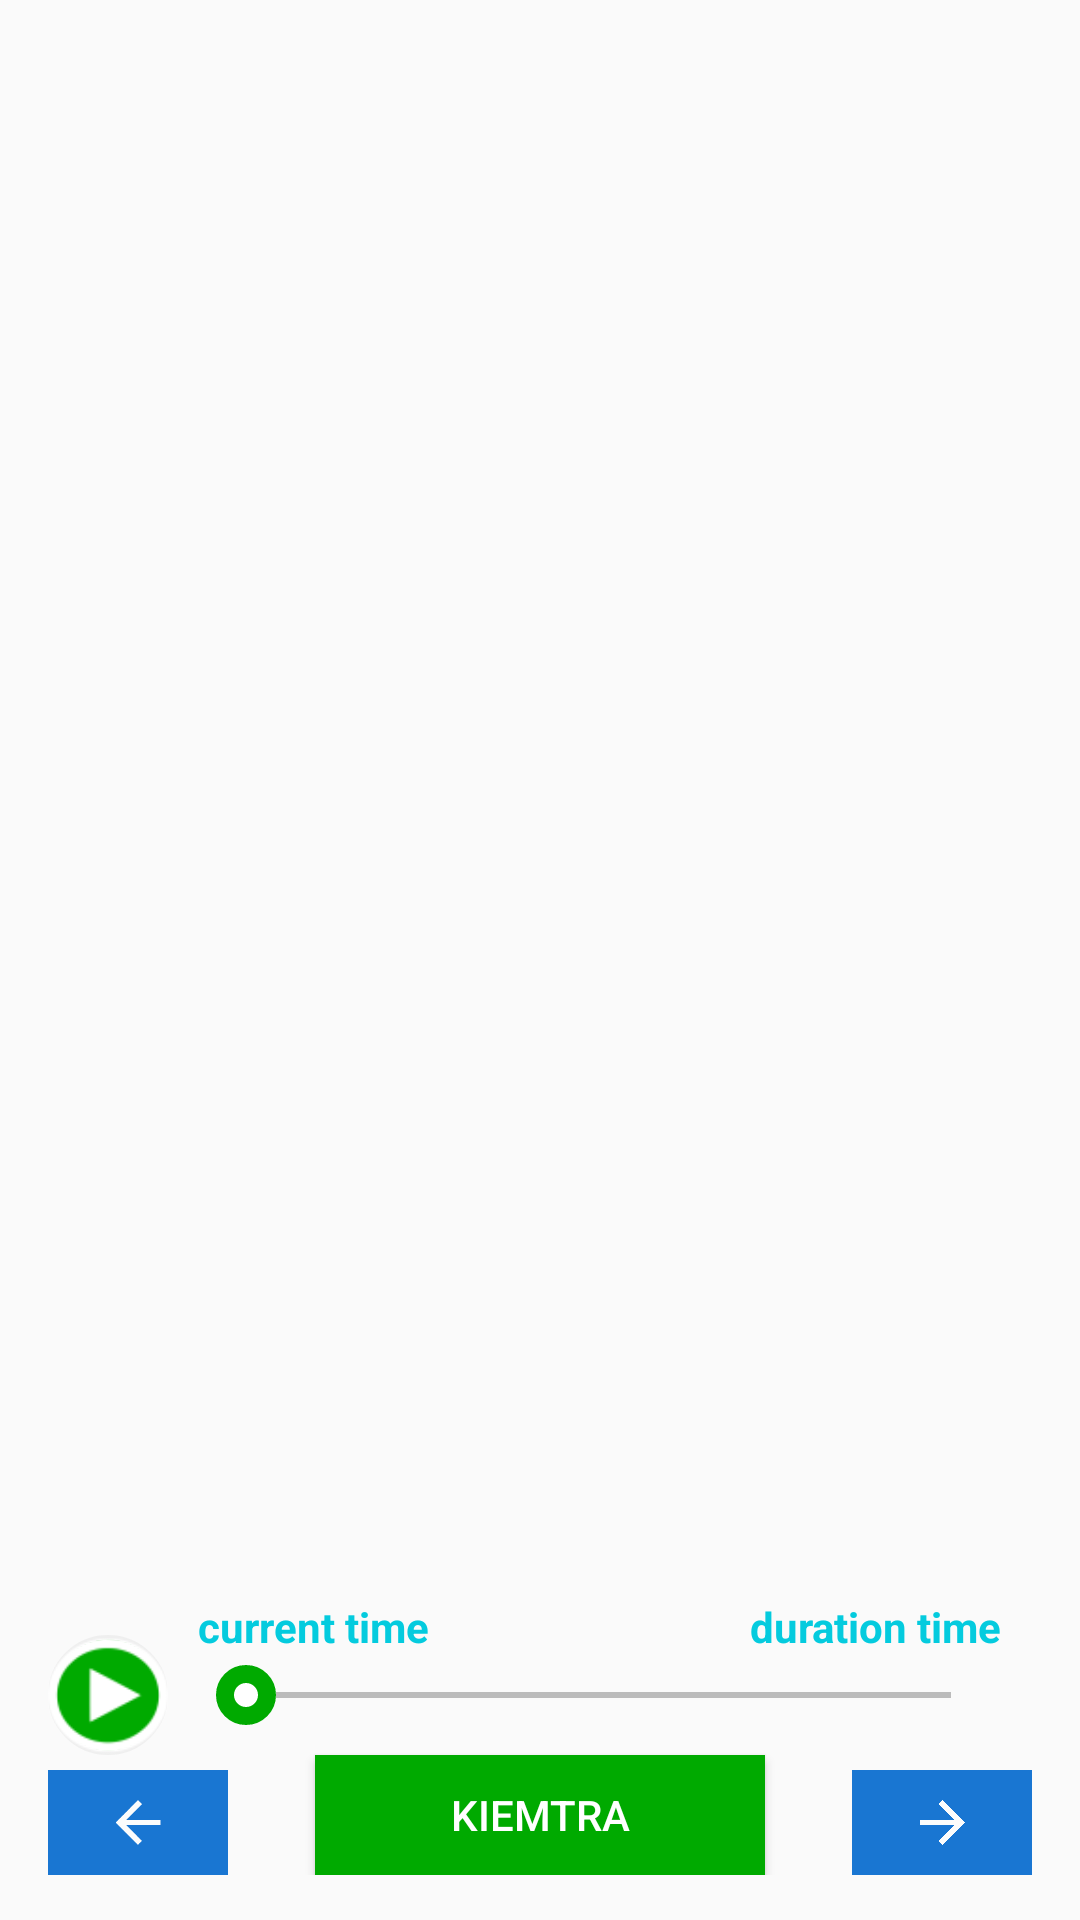

Locate icon controls on the screen. Image size 1080 × 1920, boxes as Rect(x1, y1, x2, y2).
back: Rect(48, 1770, 228, 1875)
next: Rect(852, 1770, 1032, 1875)
play: Rect(56, 1647, 160, 1744)
